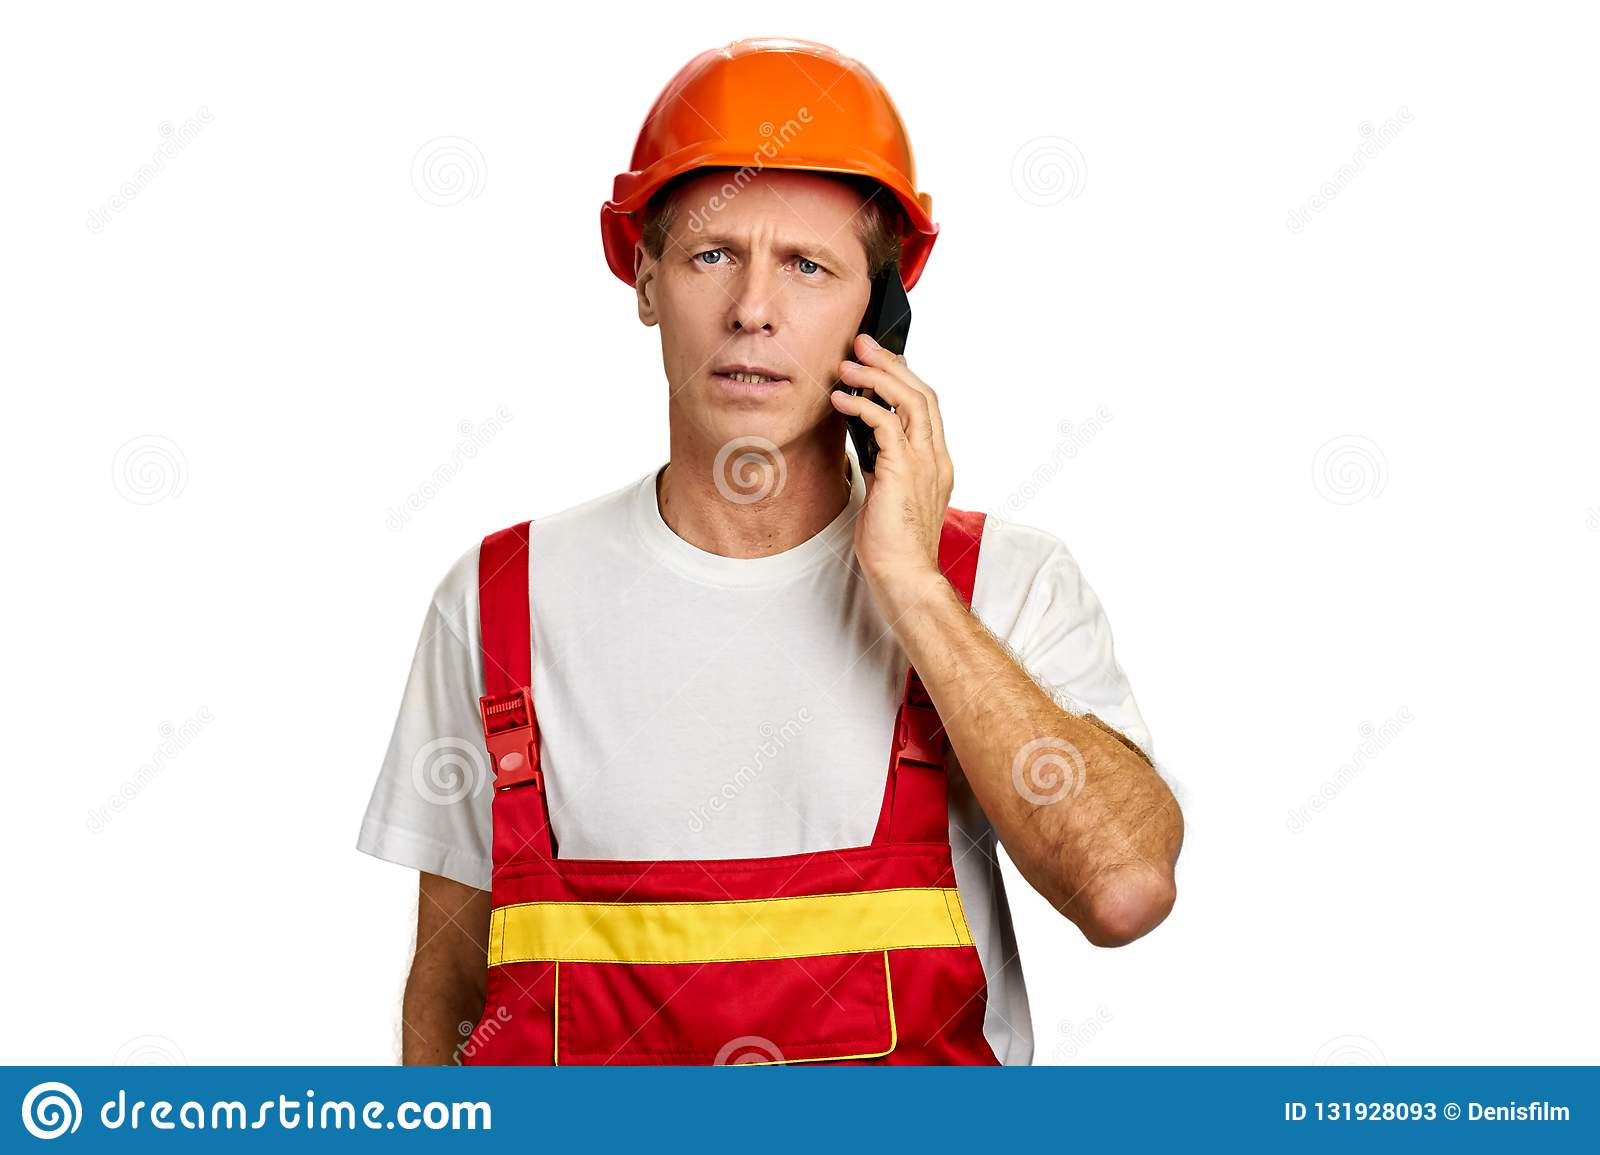phone: (842, 266, 920, 477)
talk: (667, 220, 952, 605)
